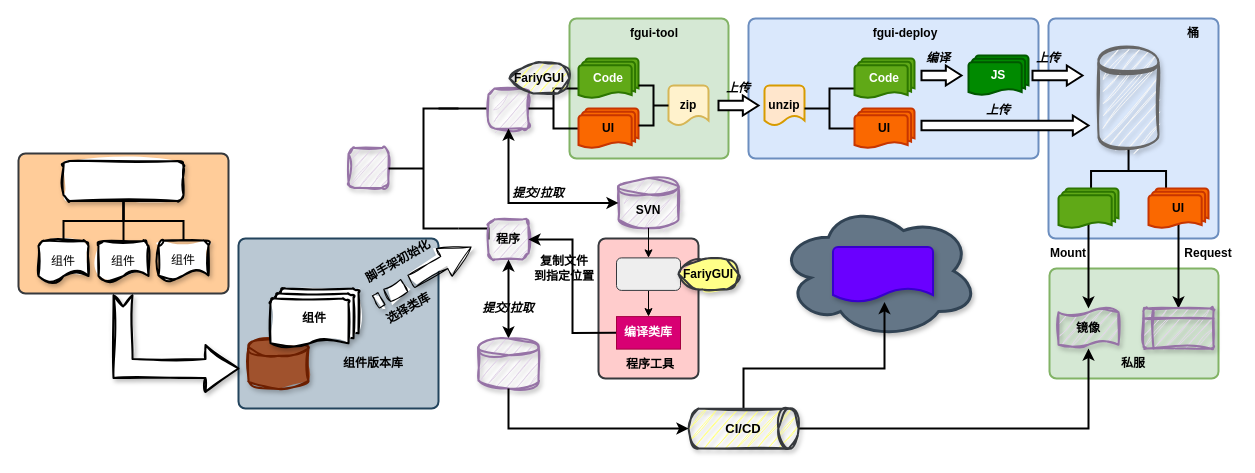
The diagram is 1255 pixels wide and 473 high, and some of its shapes have lost their labels. Each missing label, with the centre of its shape:
"Git" belongs at point 509,364.
"libgen" belongs at point 1088,208.
"maven" belongs at point 279,365.
"SandBox" belongs at point 124,182.
"发布" belongs at point 176,345.
"客户端" belongs at point 1179,329.
"客户端包" belongs at point 884,275.
"拉取/合并" belongs at point 648,273.
"美术" belongs at point 509,109.
"项目" belongs at point 369,169.
